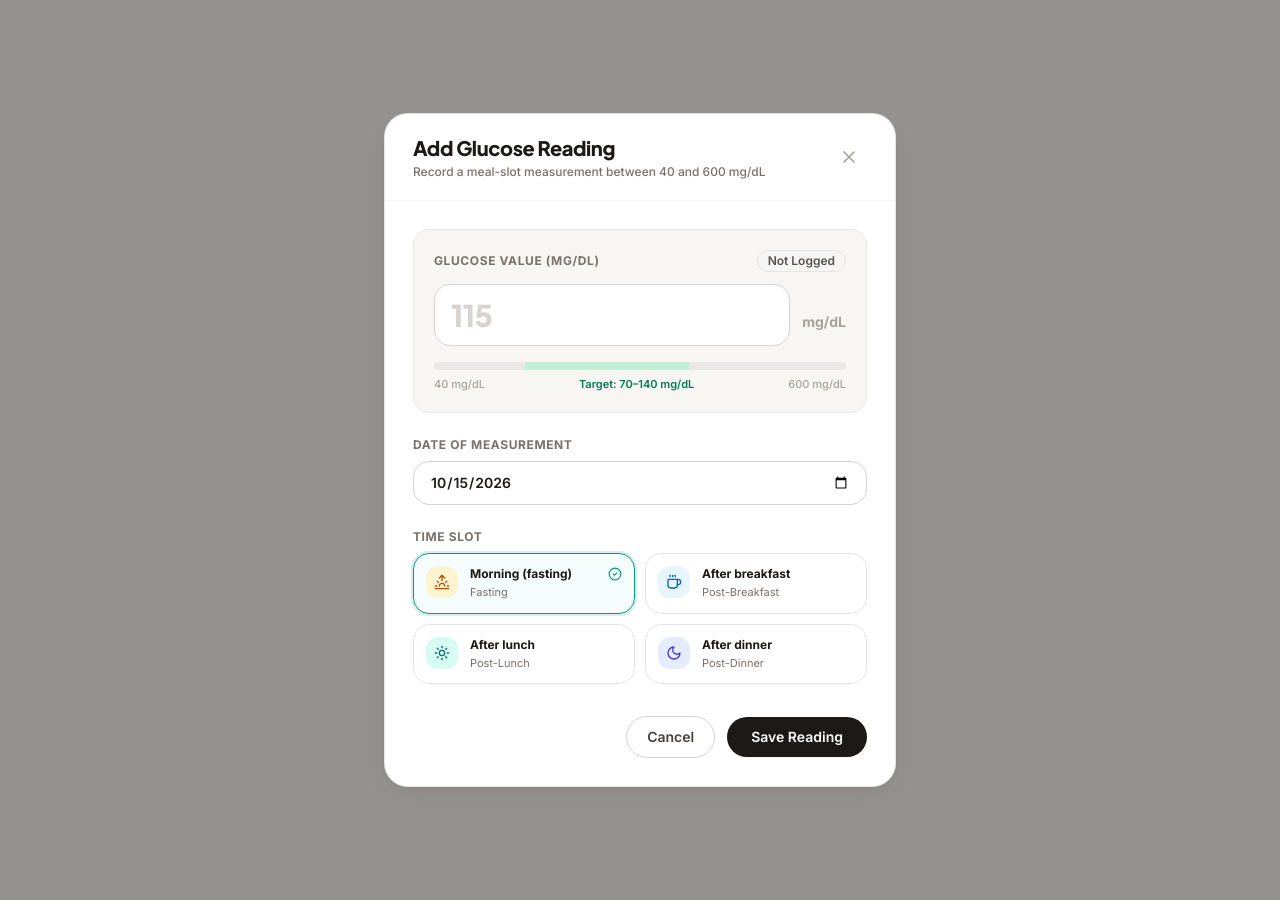
ReadingFormModal Component Tests › 2. Required-field validation displays exact BR-01 error when glucose value is empty
The width and height of the screenshot is (1280, 900).
Step 1. Click the button "Save Reading" → x=797, y=737, box x1=727 y1=717 x2=867 y2=757
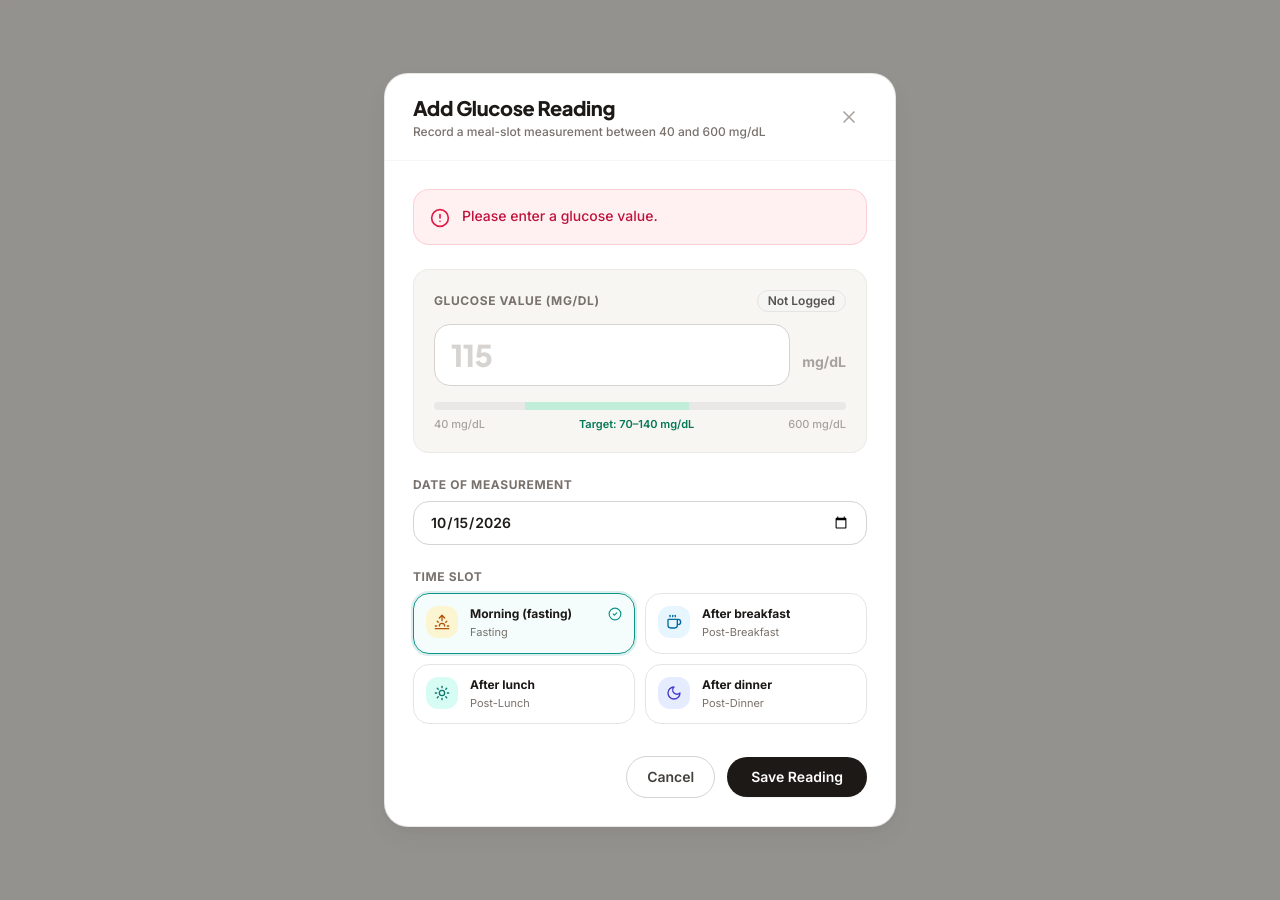
Now the message reads "Please enter a glucose value.", box x1=462 y1=207 x2=658 y2=224
